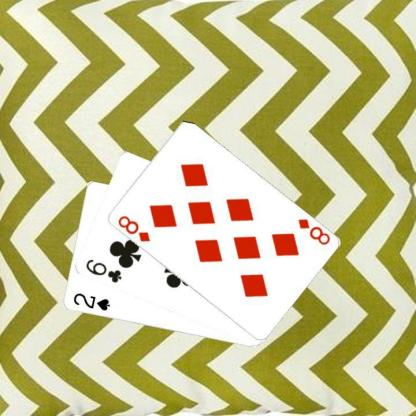2S: (70, 290, 111, 312)
6C: (82, 257, 122, 284)
8D: (114, 213, 152, 243), (295, 216, 331, 247)
